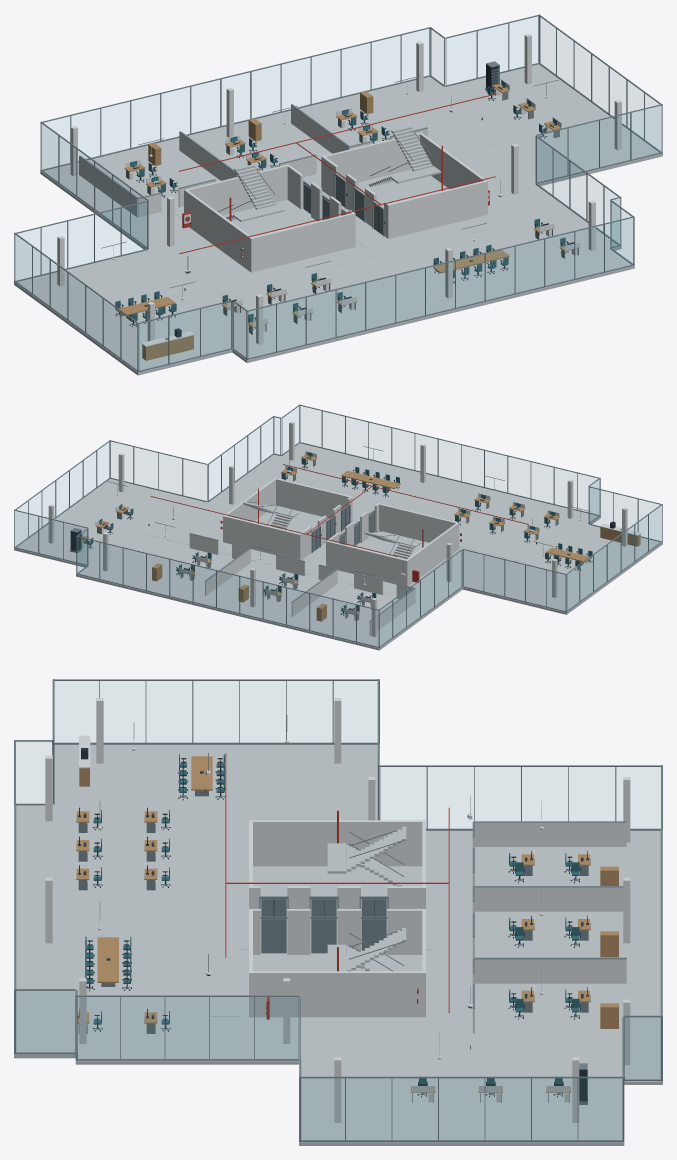
3 views of the same model, one above another, from view 1: azimuth 30°, elevation 25°; view 2: azimuth 150°, elevation 25°; view 3: azimuth 270°, elevation 25° (orthographic). The views are drawn at different scales.
Visible parts, largest first — view 1: T1_F06_SLAB, T1_F06_WHITE, T1_F06_GLASS_S, T1_F06_GLASS_N, T1_F06_STEEL, T1_F06_GLASS_W, T1_F06_GLASS_E, T1_F06_WOOD, T1_F06_FABRIC, T1_F06_DARK, T1_F06_RED; view 2: T1_F06_SLAB, T1_F06_WHITE, T1_F06_GLASS_N, T1_F06_GLASS_S, T1_F06_STEEL, T1_F06_GLASS_W, T1_F06_GLASS_E, T1_F06_WOOD, T1_F06_FABRIC, T1_F06_DARK, T1_F06_RED; view 3: T1_F06_SLAB, T1_F06_WHITE, T1_F06_GLASS_E, T1_F06_GLASS_W, T1_F06_STEEL, T1_F06_WOOD, T1_F06_FABRIC, T1_F06_DARK, T1_F06_RED.
Boxes of the visible parts, box(x1,y1,x2,y2) form: T1_F06_SLAB: box(14, 64, 662, 375); T1_F06_WHITE: box(57, 34, 621, 346); T1_F06_GLASS_S: box(140, 106, 660, 370); T1_F06_GLASS_N: box(19, 17, 538, 267); T1_F06_STEEL: box(14, 14, 662, 372); T1_F06_GLASS_W: box(15, 125, 245, 369); T1_F06_GLASS_E: box(431, 18, 657, 243); T1_F06_WOOD: box(116, 83, 580, 360); T1_F06_FABRIC: box(115, 86, 566, 322); T1_F06_DARK: box(115, 64, 574, 337); T1_F06_RED: box(179, 93, 496, 258); T1_F06_SLAB: box(14, 443, 662, 650); T1_F06_WHITE: box(48, 421, 641, 636); T1_F06_GLASS_N: box(15, 512, 564, 646); T1_F06_GLASS_S: box(110, 406, 657, 527); T1_F06_STEEL: box(14, 404, 662, 648); T1_F06_GLASS_W: box(380, 480, 661, 645); T1_F06_GLASS_E: box(18, 408, 298, 536); T1_F06_WOOD: box(81, 455, 640, 621); T1_F06_FABRIC: box(88, 458, 592, 611); T1_F06_DARK: box(70, 452, 615, 615); T1_F06_RED: box(150, 464, 528, 582); T1_F06_SLAB: box(14, 744, 662, 1145); T1_F06_WHITE: box(45, 698, 630, 1122); T1_F06_GLASS_E: box(16, 991, 660, 1139); T1_F06_GLASS_W: box(16, 681, 660, 828); T1_F06_STEEL: box(14, 679, 662, 1141); T1_F06_WOOD: box(76, 756, 618, 1092); T1_F06_FABRIC: box(85, 754, 579, 1083); T1_F06_DARK: box(78, 748, 588, 1101); T1_F06_RED: box(225, 753, 449, 1019).
Size of the model in its own units: 55.47 by 4.5 by 38.19.
